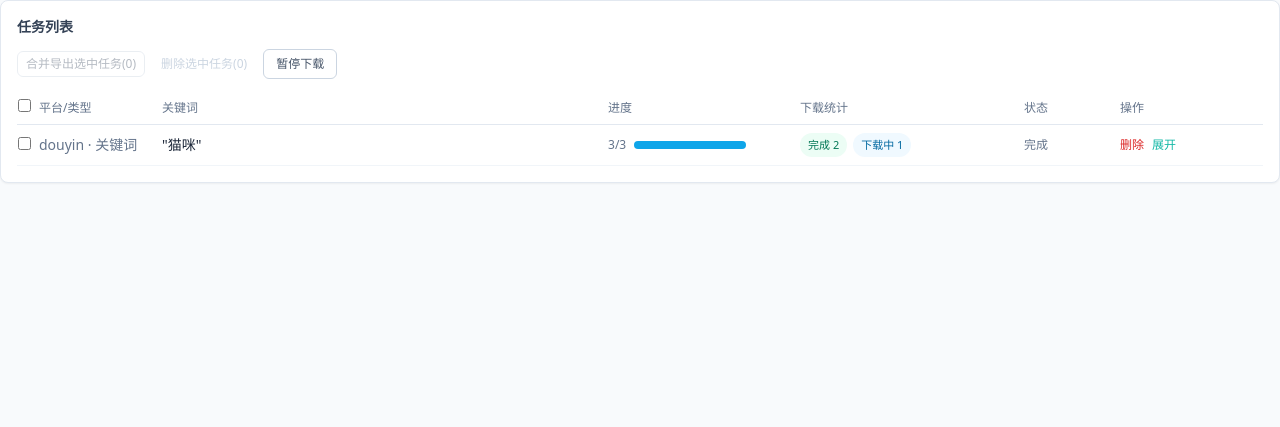
Test: D8 视频列表 › 勾选框可以一条条累加（以前勾第二条会把第一条顶掉）
Step 1. Click the button "展开" → (1164, 145), box [1152, 137, 1176, 153]
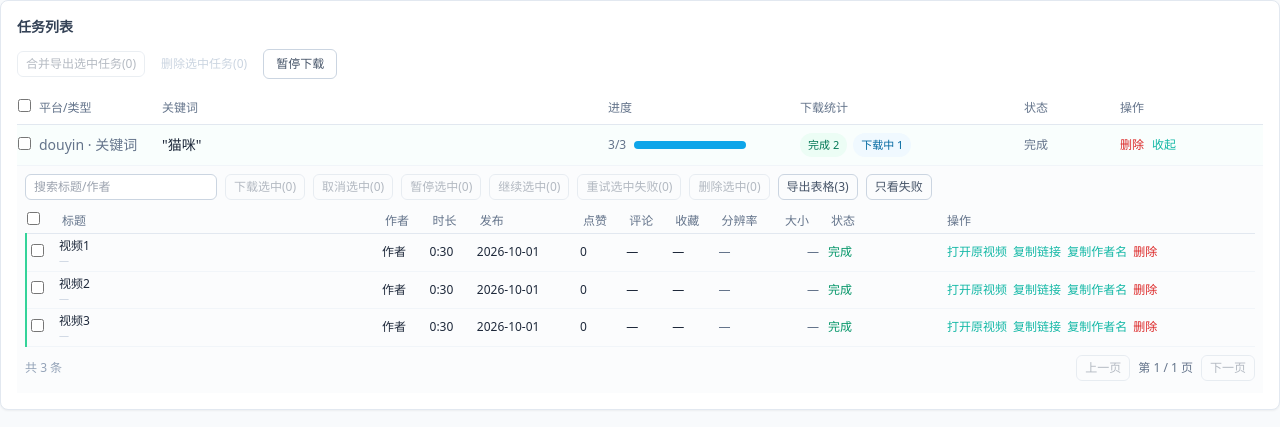
Now the text "视频1" is shown, box [59, 237, 90, 254]
Step 2. Click the checkbox next to "视频1" → (38, 250), box [31, 244, 44, 257]
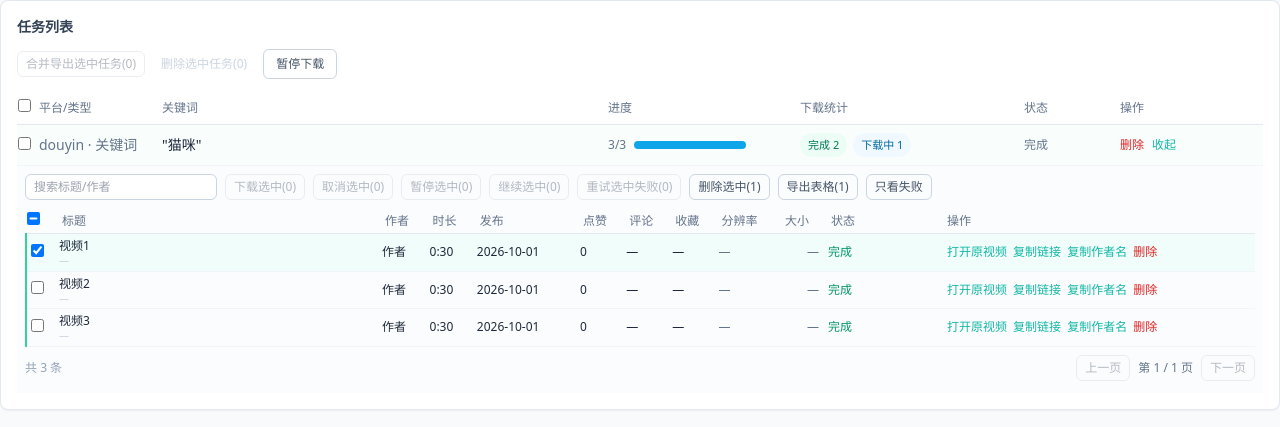
Step 3. Click the checkbox next to "视频2" → (38, 288), box [31, 281, 44, 294]
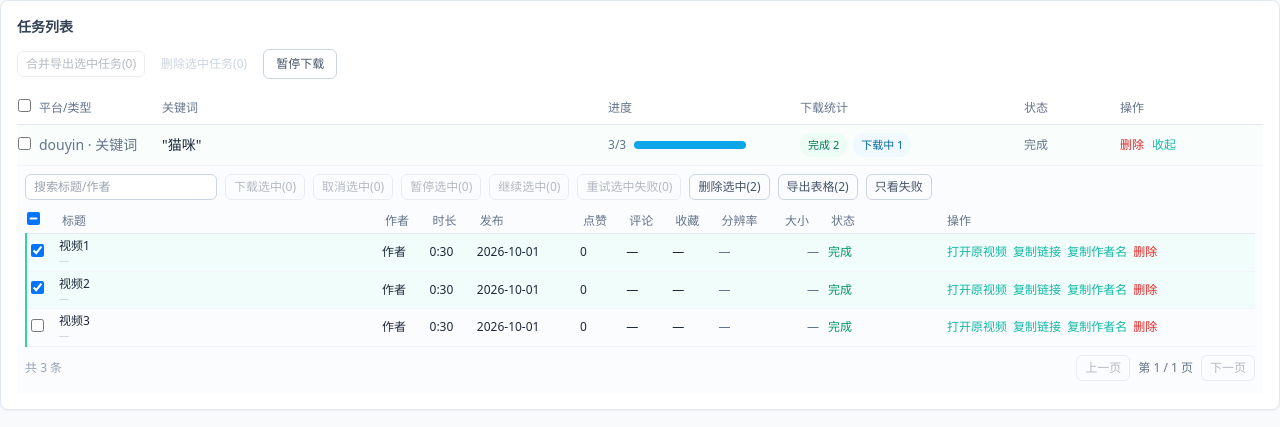
Now the button "删除选中(2)" is shown, box [690, 174, 770, 200]
Step 4. Click the checkbox next to "视频1" → (38, 250), box [31, 244, 44, 257]
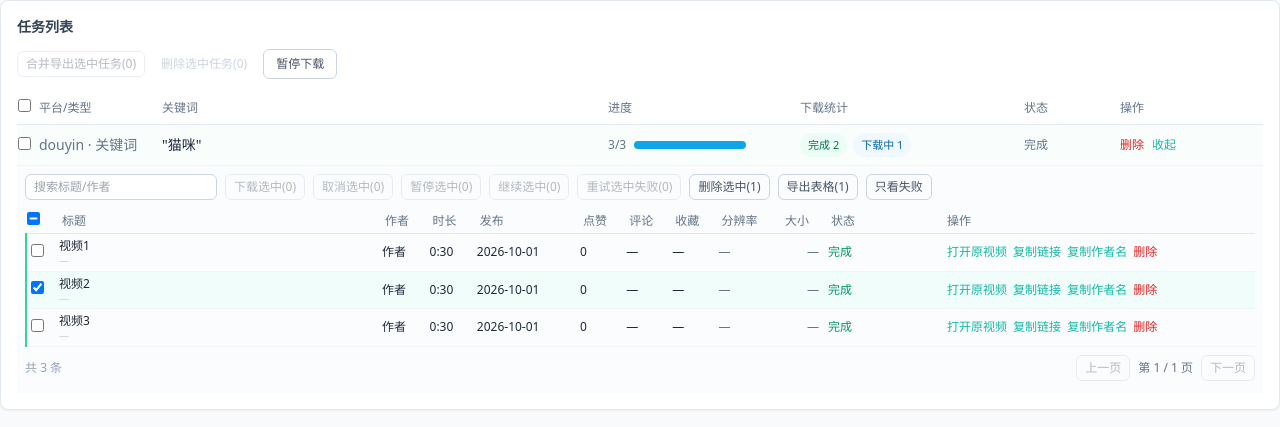
Now the button "删除选中(1)" is shown, box [690, 174, 770, 200]
